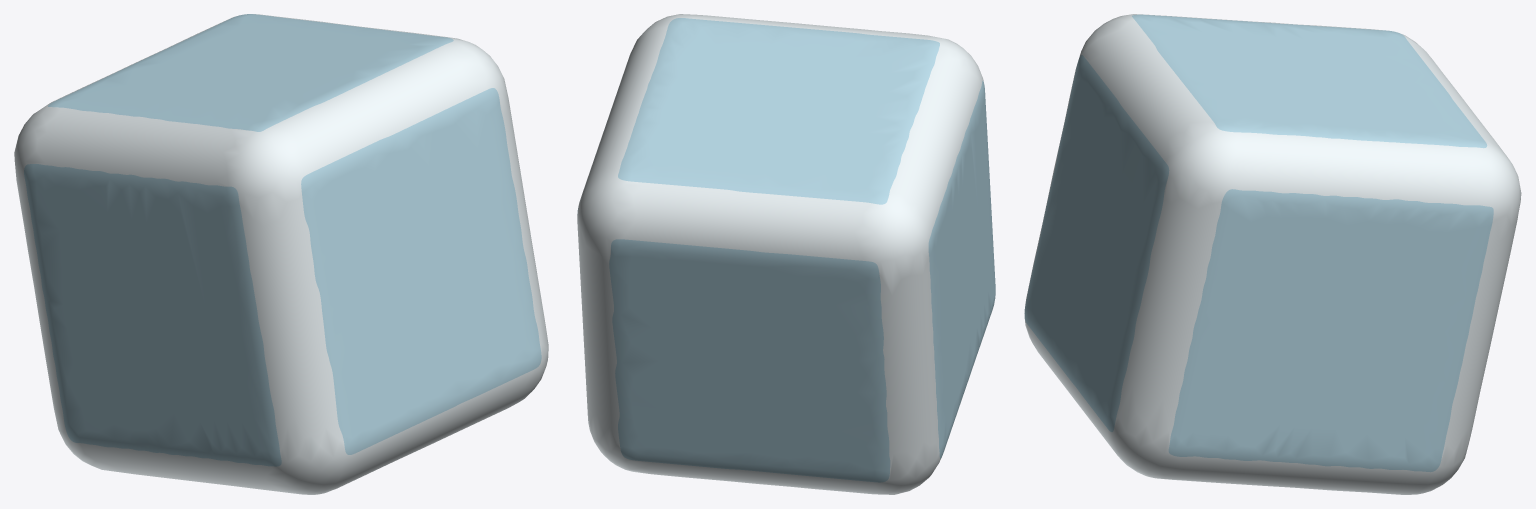
The model's file is w_snowball@snowball_ice.glb.
3 renders of one model, left to right at view 1: azimuth 30°, elevation 25°; view 2: azimuth 150°, elevation 25°; view 3: azimuth 270°, elevation 25°, orthographic. The views are drawn at different scales.
Visible parts, largest first — view 1: cube_wzA__ice__pb9dcea, cube_wzA__frost__peef6f9; view 2: cube_wzA__ice__pb9dcea, cube_wzA__frost__peef6f9; view 3: cube_wzA__ice__pb9dcea, cube_wzA__frost__peef6f9.
Boxes of the visible parts, x1,y1,x2,y2 form: cube_wzA__ice__pb9dcea: (24,14,541,466); cube_wzA__frost__peef6f9: (14,14,548,494); cube_wzA__ice__pb9dcea: (577,18,995,482); cube_wzA__frost__peef6f9: (577,14,983,494); cube_wzA__ice__pb9dcea: (1024,14,1493,472); cube_wzA__frost__peef6f9: (1025,14,1521,494).
Bounding box in the file's own units: 0.1215 × 0.1127 × 0.1296.
